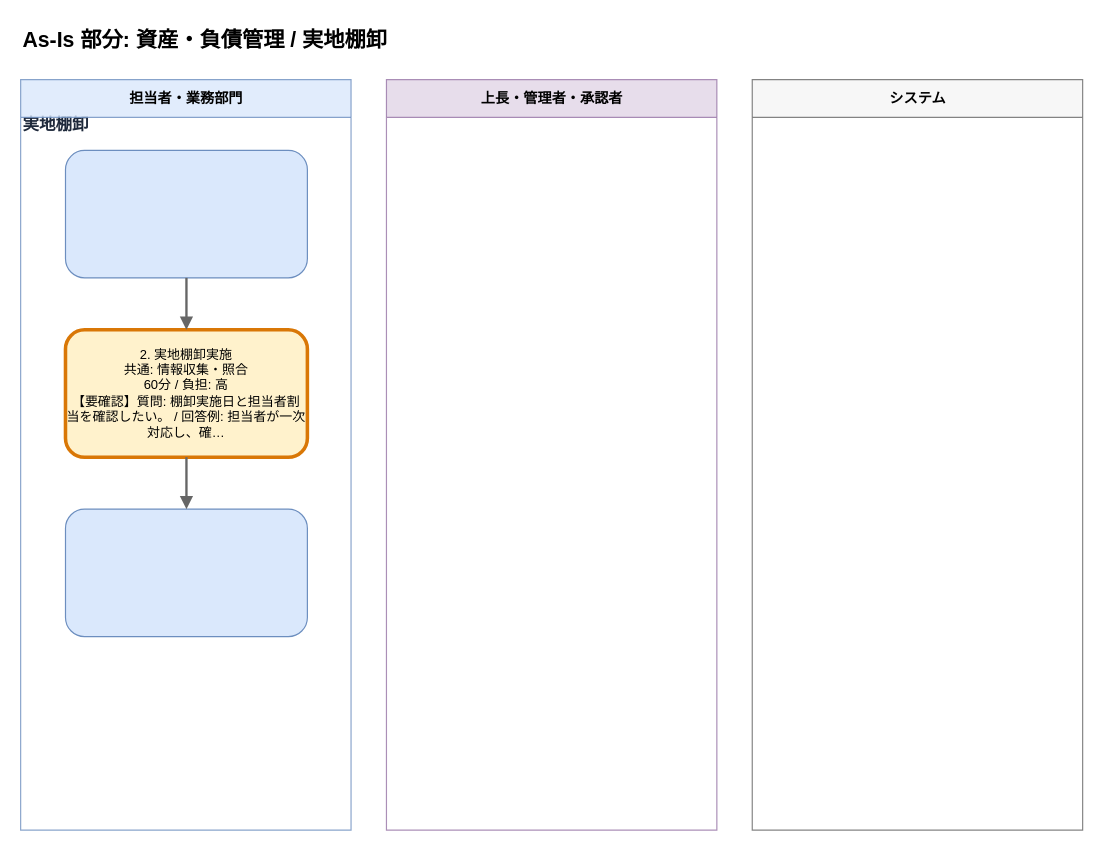
This 1103x851 diagram has some shape labels left out. Here are the shapes that lost their labels. From the top down, the centre of each, then its label:
At point 185,213: "1. 棚卸表整備 共通: 受付・起案 30分 / 負担: 中".
At point 185,572: "3. 棚卸表承認 共通: 承認・決裁 20分 / 負担: 中".
